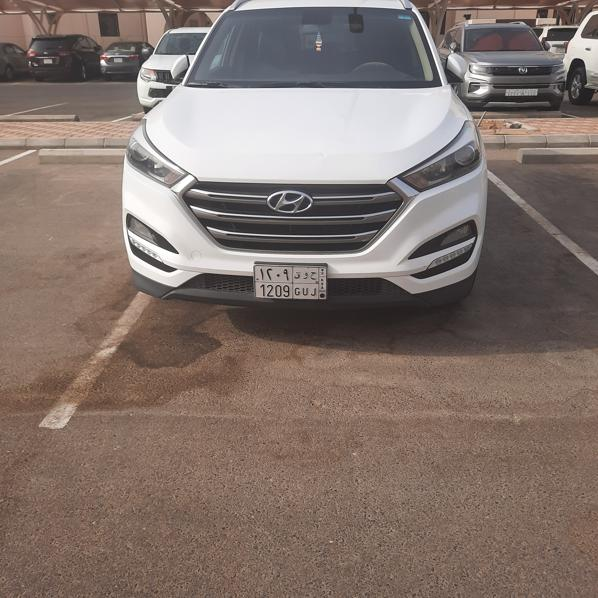numberplate: (255, 264, 328, 300)
